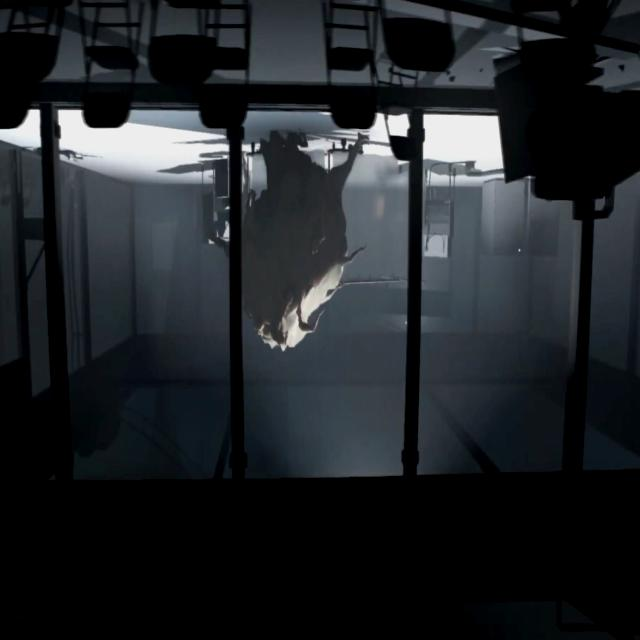blob: (242, 138, 367, 349)
